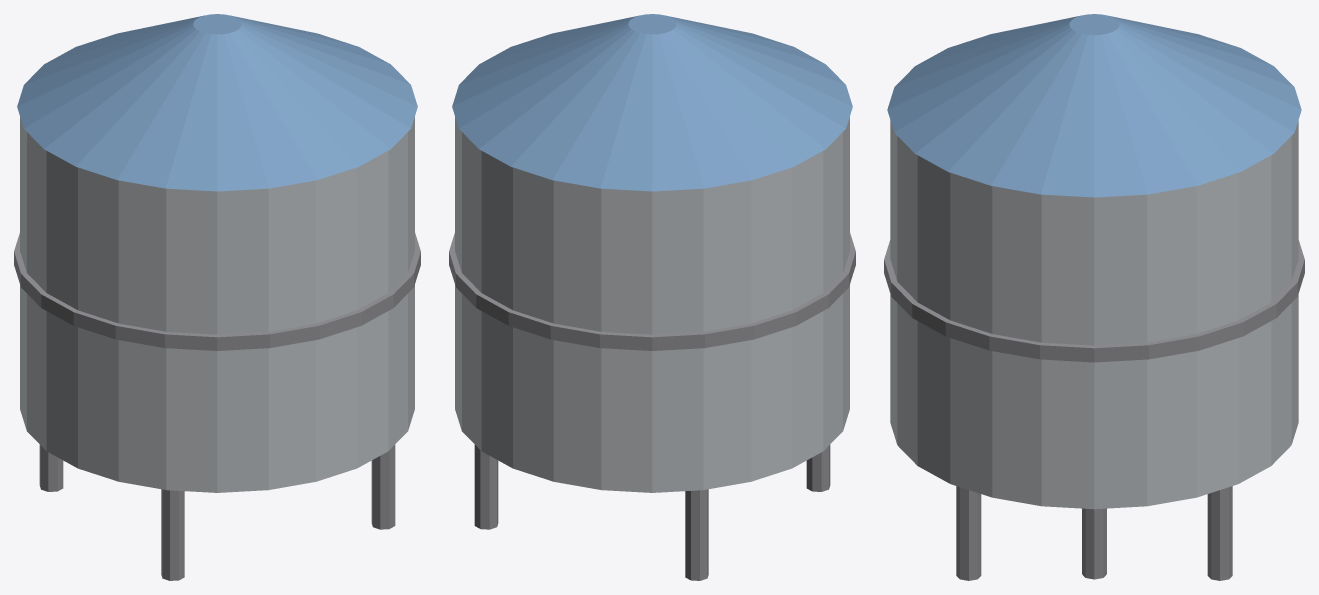
File: rooftop_tank.glb
3 views of the same model, side by side, from view 1: azimuth 30°, elevation 25°; view 2: azimuth 150°, elevation 25°; view 3: azimuth 270°, elevation 25° (orthographic). The views are drawn at different scales.
Visible parts, largest first — view 1: rooftop_tank; view 2: rooftop_tank; view 3: rooftop_tank.
Part boxes in pixels (bbox=[...]): rooftop_tank: bbox=[14, 14, 420, 580]; rooftop_tank: bbox=[449, 14, 855, 580]; rooftop_tank: bbox=[884, 14, 1304, 580].
Size of the model in its own units: 1.34 by 1.75 by 1.34.
